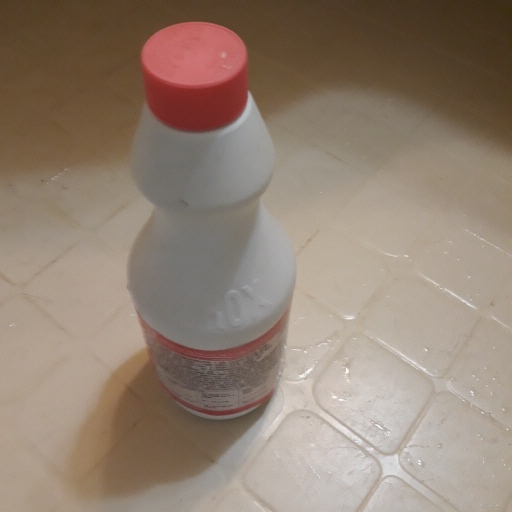Plastic_0: (122, 21, 299, 418)
